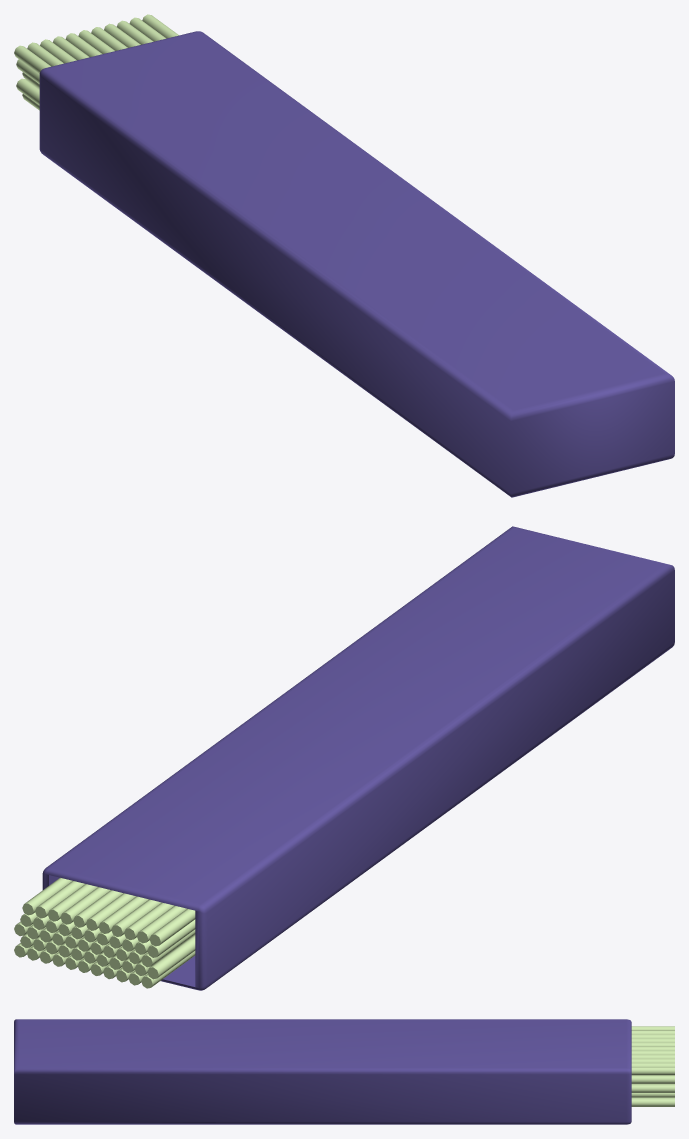
The model's file is pasta.glb.
The picture shows the model from 3 angles, top to bottom: view 1: azimuth 30°, elevation 25°; view 2: azimuth 150°, elevation 25°; view 3: azimuth 270°, elevation 25°; orthographic projection. The views are drawn at different scales.
Visible parts, largest first — view 1: Object001, Cylinder045; view 2: Object001, Cylinder045; view 3: Object001, Cylinder045.
Part boxes in pixels (x1,y1,x2,y2): Object001: (39,31,674,497); Cylinder045: (14,14,178,110); Object001: (42,526,674,990); Cylinder045: (14,877,195,988); Object001: (14,1019,631,1124); Cylinder045: (631,1026,674,1106).
Size of the model in its own units: 0.0254 by 0.0127 by 0.1359.
